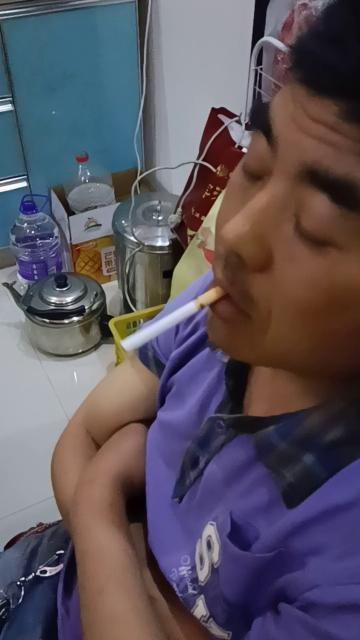Smoking: (122, 286, 226, 354)
